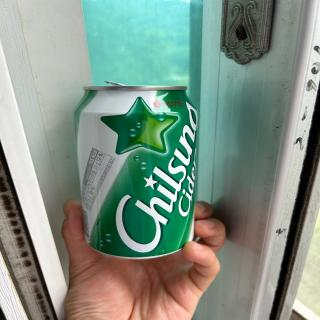cocacola: (73, 79, 204, 263)
